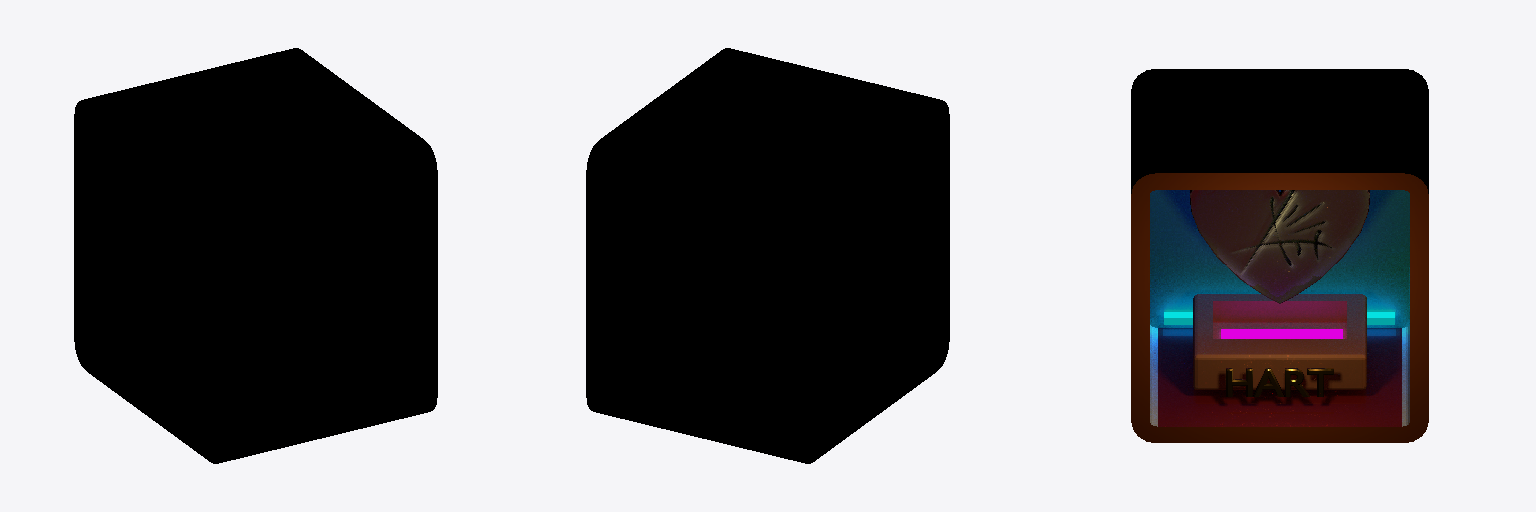
The picture shows the model from 3 angles: view 1: azimuth 30°, elevation 25°; view 2: azimuth 150°, elevation 25°; view 3: azimuth 270°, elevation 25°; orthographic projection.
Visible parts, largest first — view 1: Hart_contact_Cube; view 2: Hart_contact_Cube; view 3: Hart_contact_Cube.
Part boxes in pixels (x1,y1,x2,y2): Hart_contact_Cube: (74,48,437,463); Hart_contact_Cube: (586,48,949,463); Hart_contact_Cube: (1131,69,1428,442).
Bounding box in the file's own units: 1.66 × 2 × 2.
Materials: 2 (1 with a texture image).